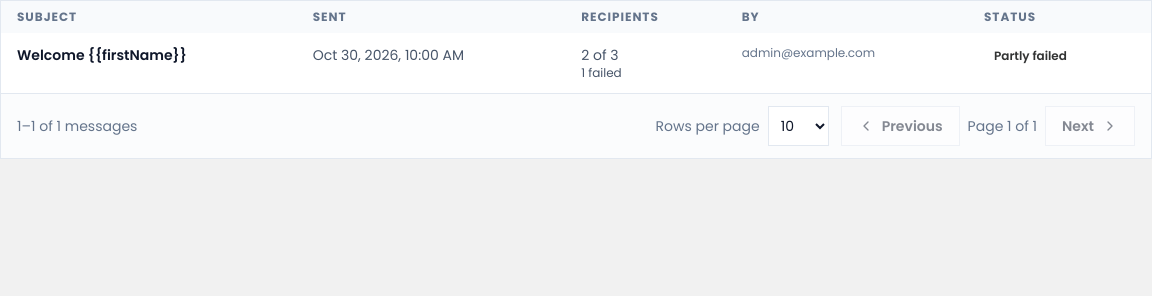
Scenario: MessagesHistory › lists sent messages and expands one to the per-recipient outcome
The image size is (1152, 296).
Expected: the text "2 of 3" is shown, [565,33,726,93]
Expected: the text "1 failed" is shown, [581,64,622,81]
Click the button "Welcome {{firstName}}" at x=102, y=55, box [17,45,187,65]
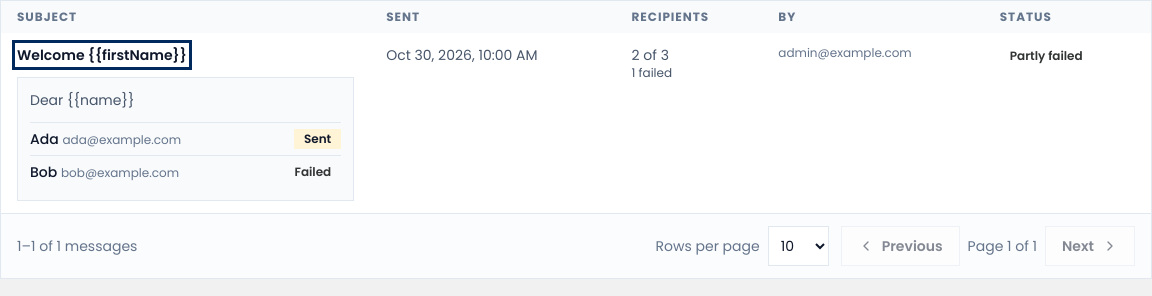
Expected: the text "Dear {{name}}" is shown, [30,90,134,110]
Expected: the text "Ada" is shown, [30,129,59,149]
Expected: the text "Failed" is shown, [294,163,331,180]
